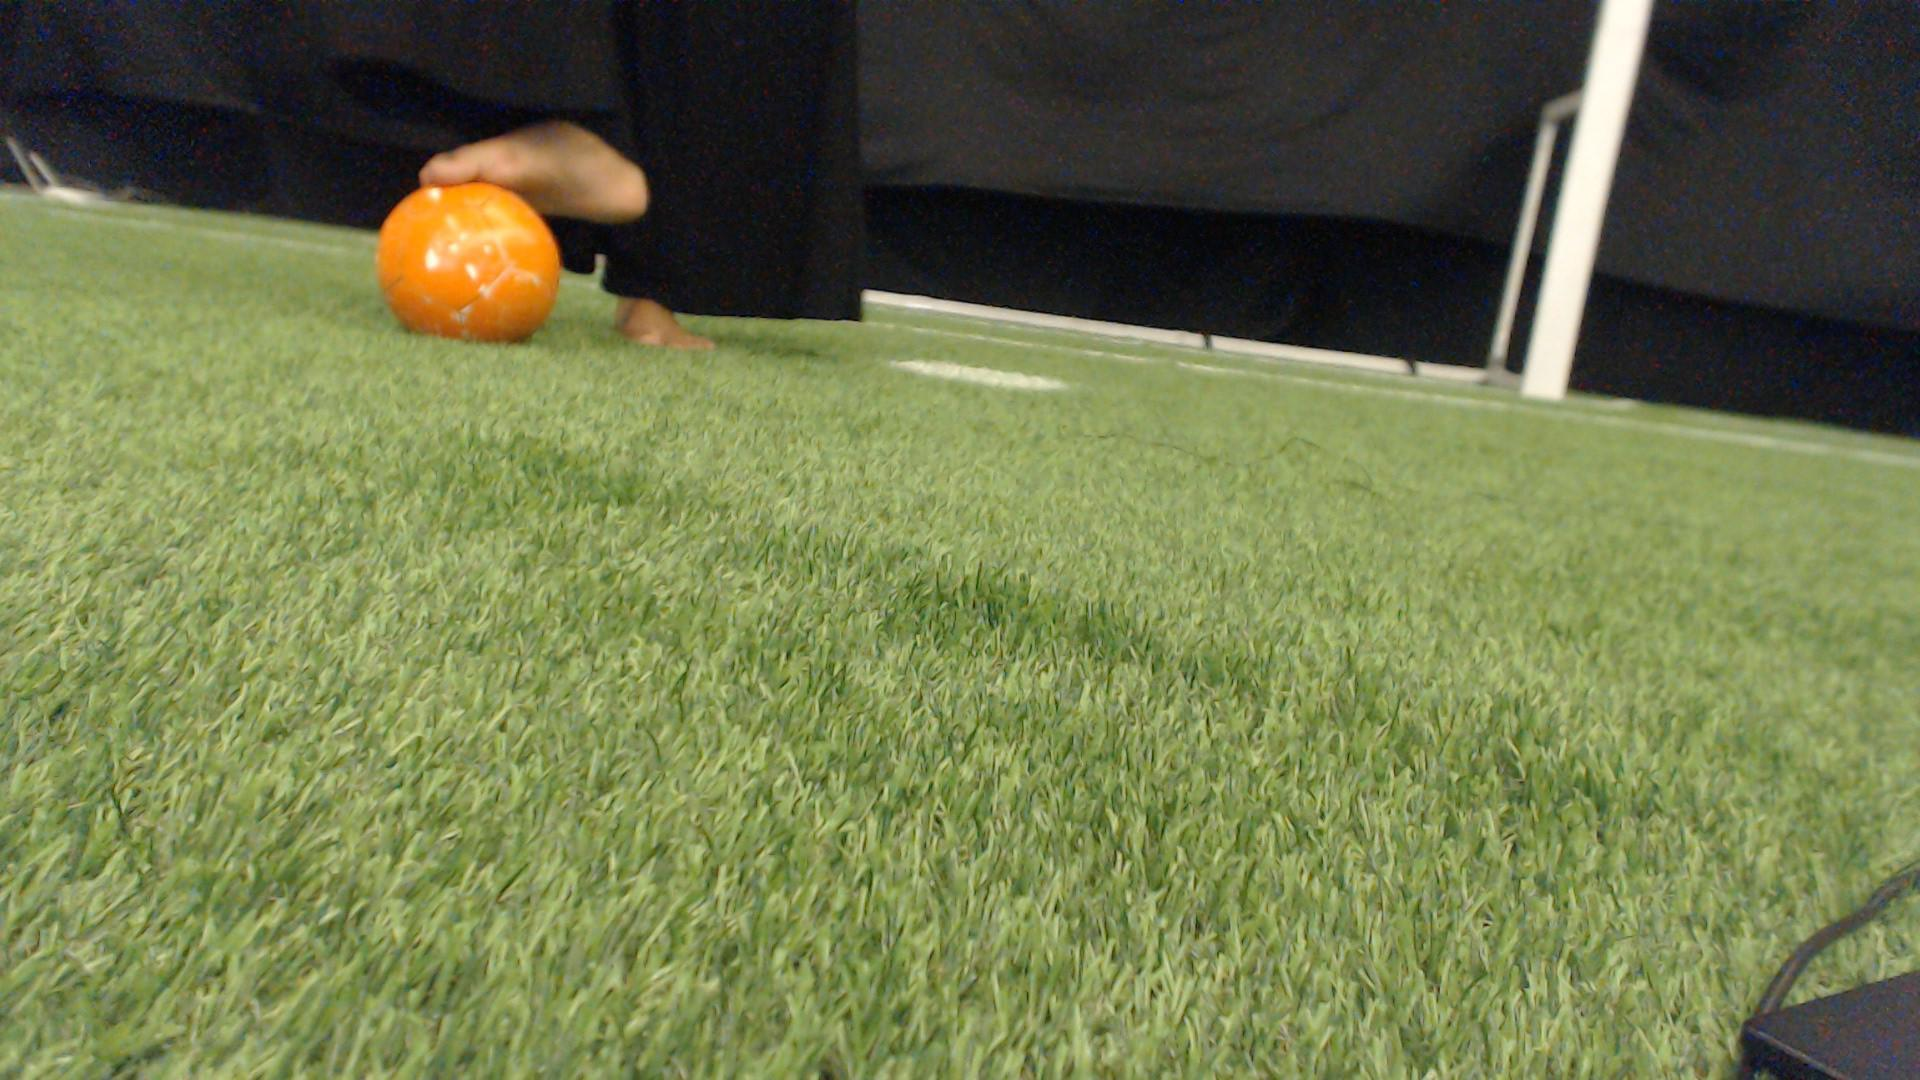bola: (368, 175, 583, 367)
